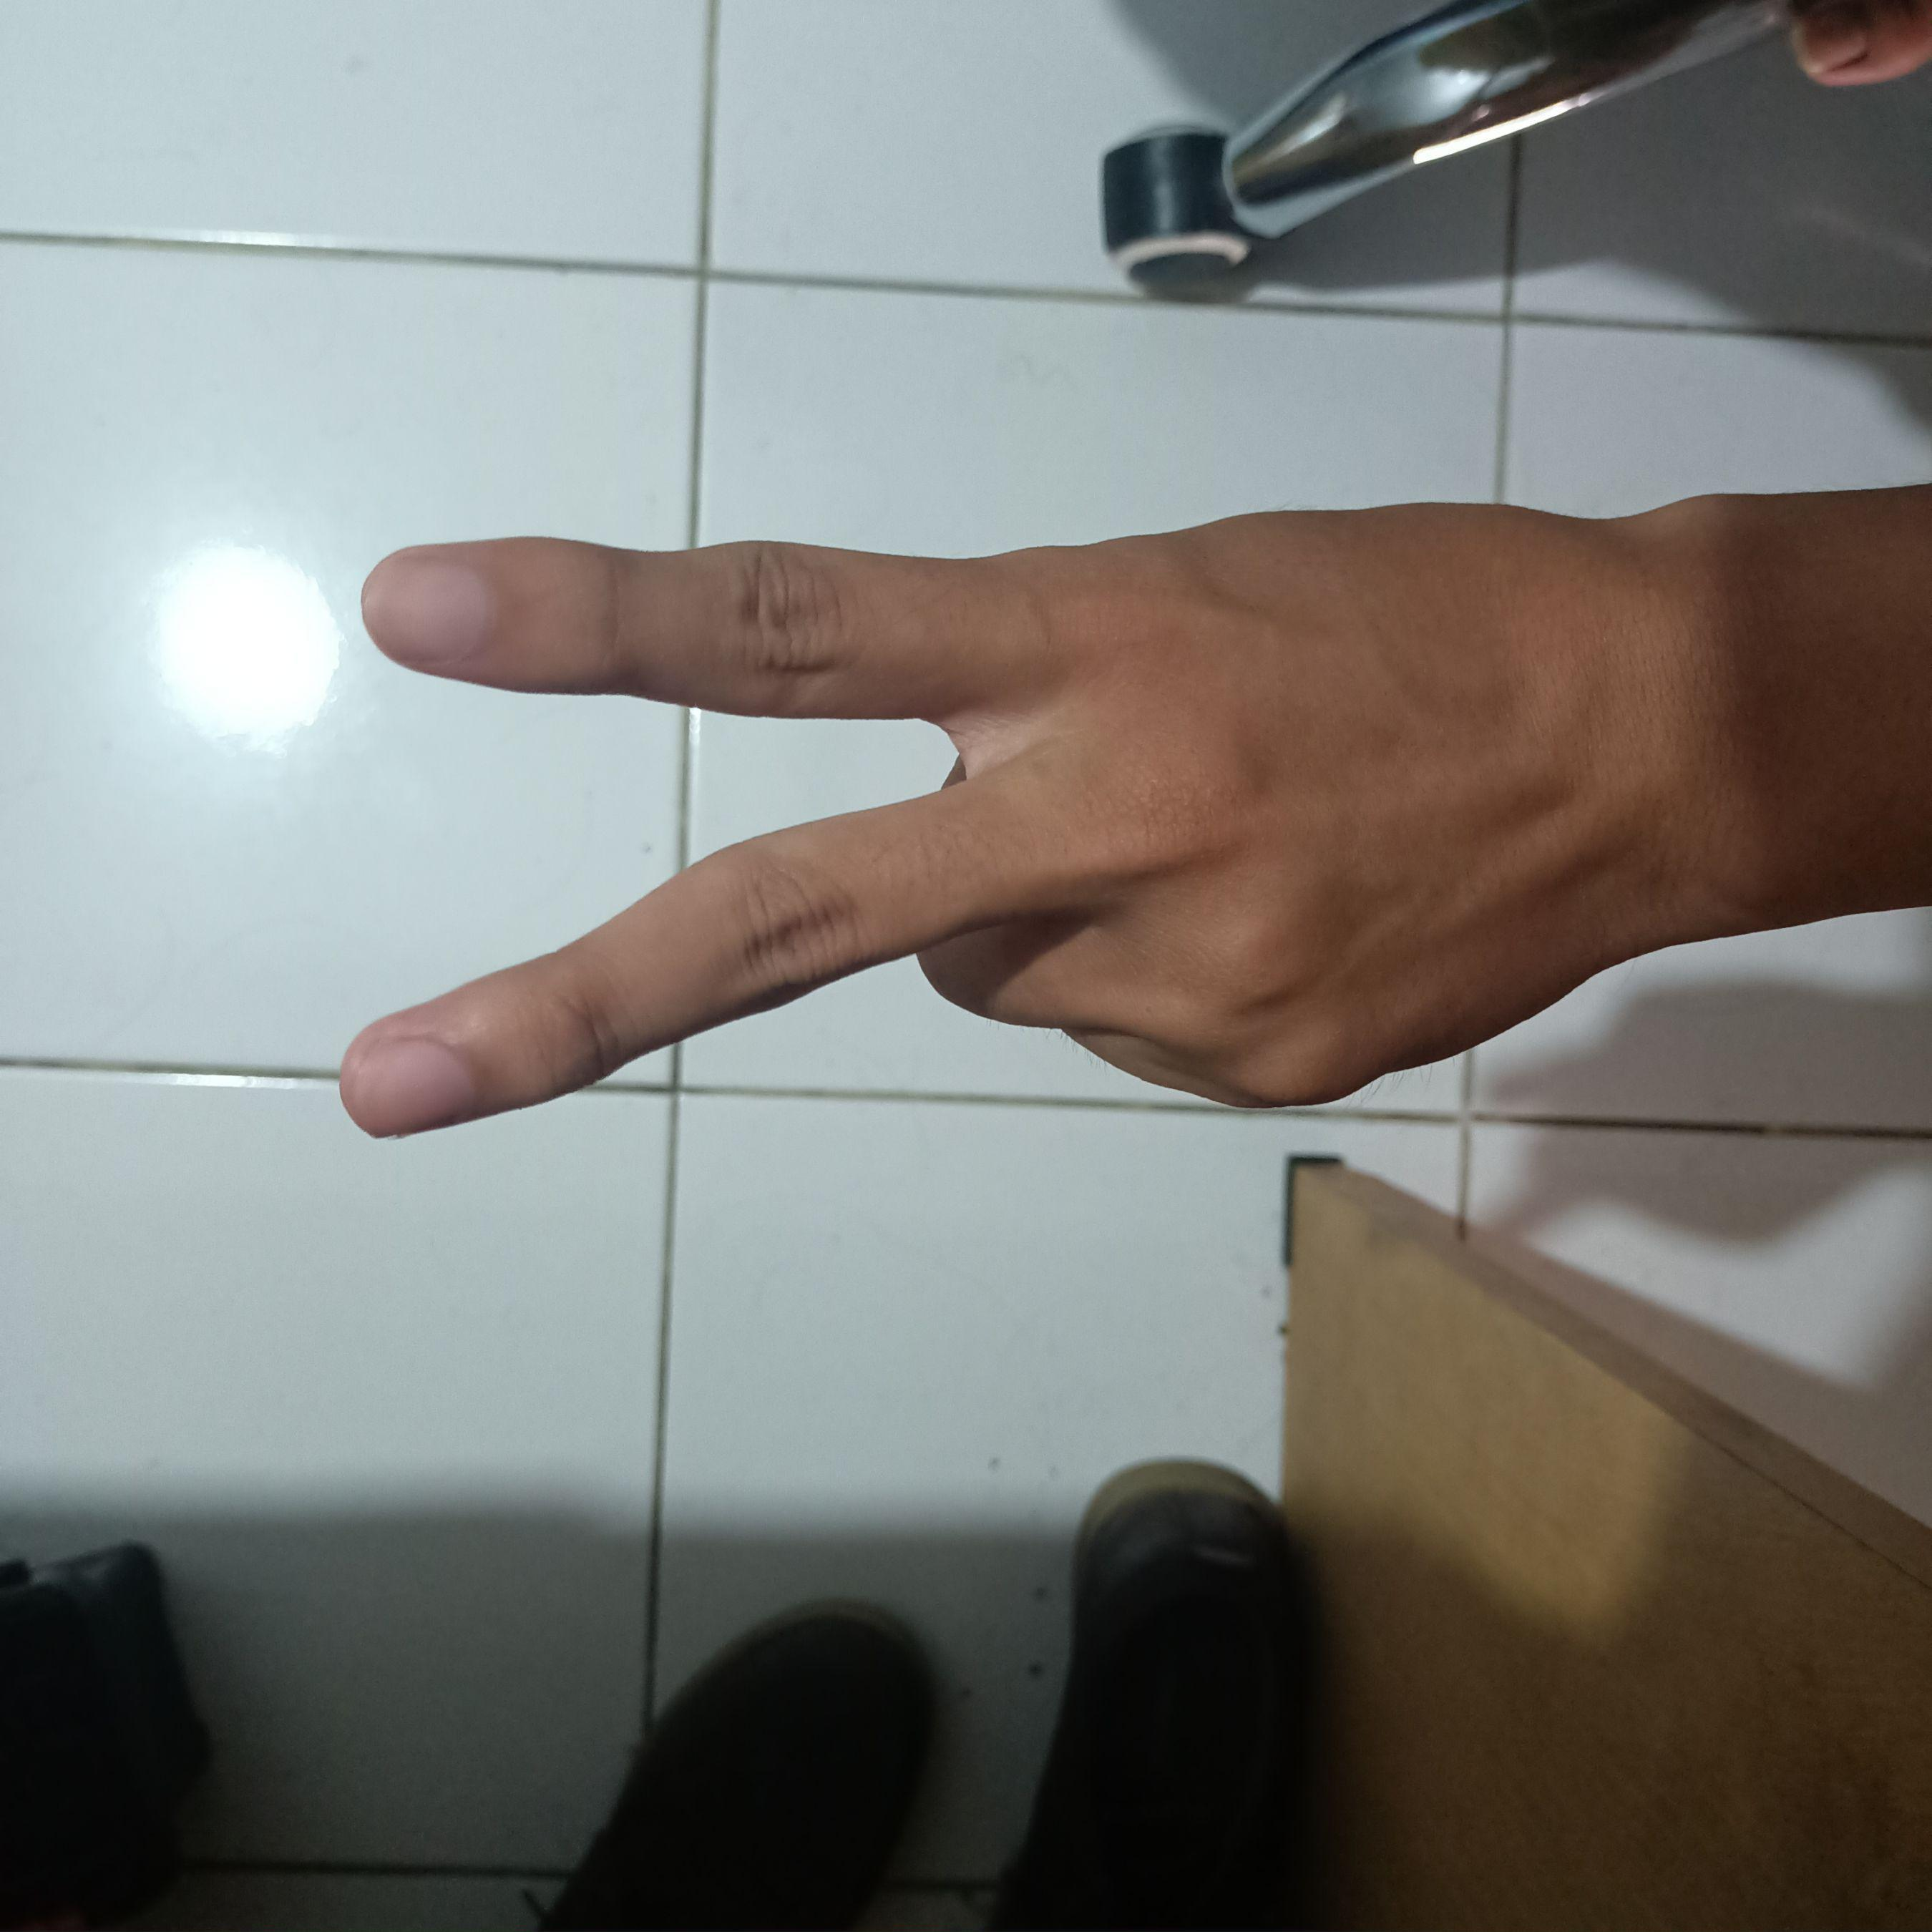scissors: (320, 465, 1792, 1157)
